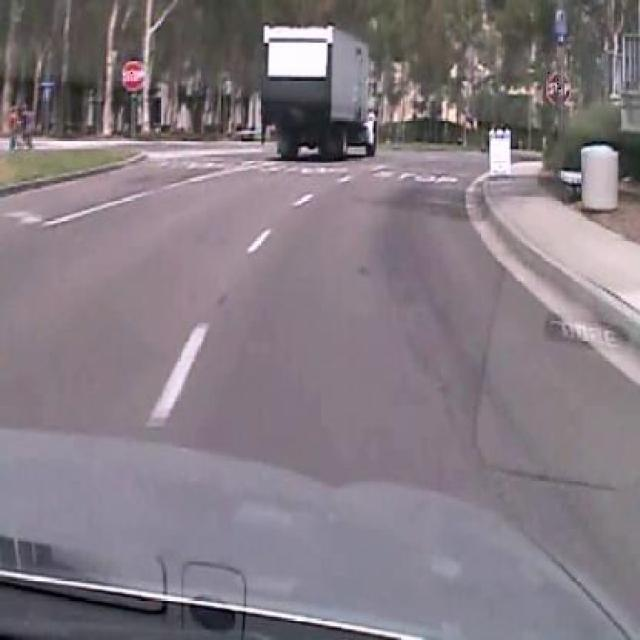stop: (546, 71, 571, 105), (123, 60, 145, 92)
